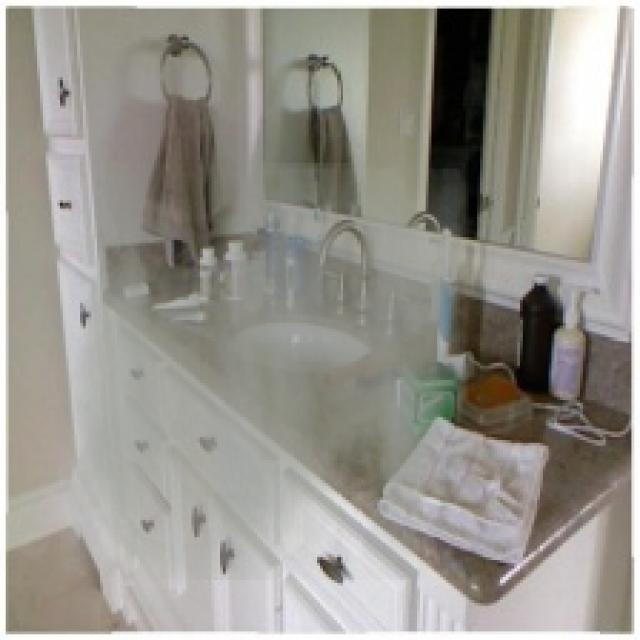Smoke: (60, 163, 469, 580)
